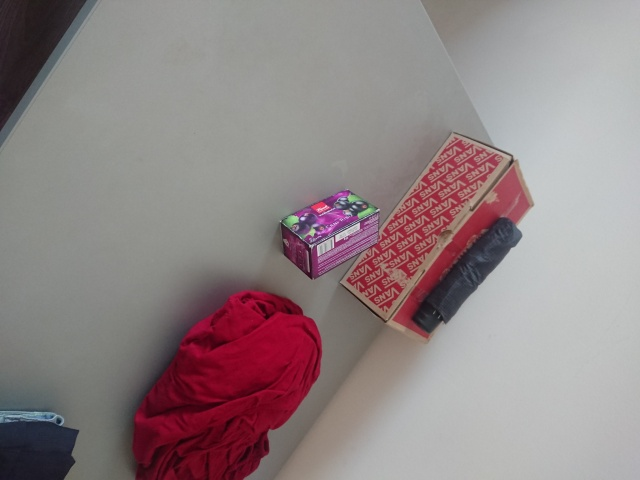Franck Black Currant Tea 60g: (277, 187, 382, 282)
